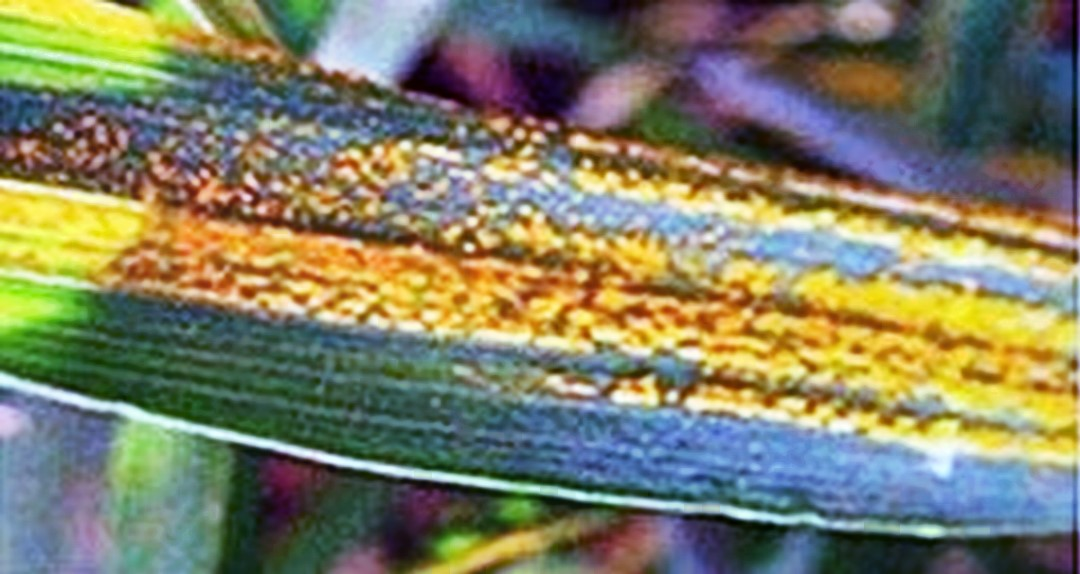Leaf Rust: (89, 70, 961, 521)
